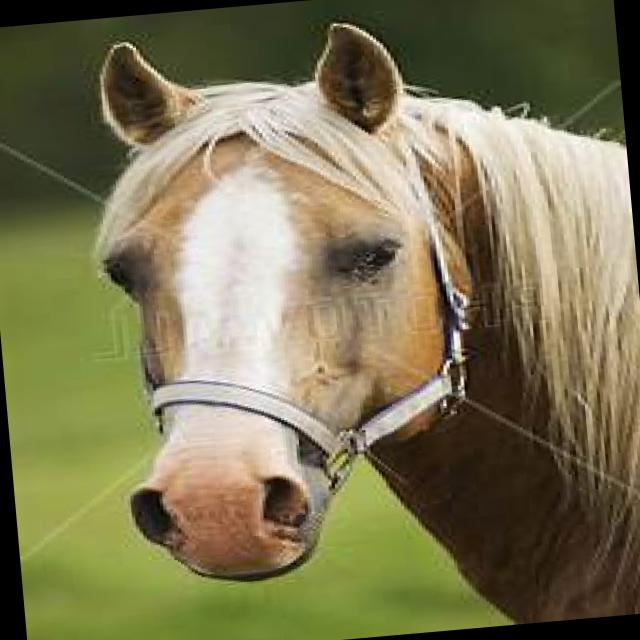animal: (77, 0, 640, 640)
